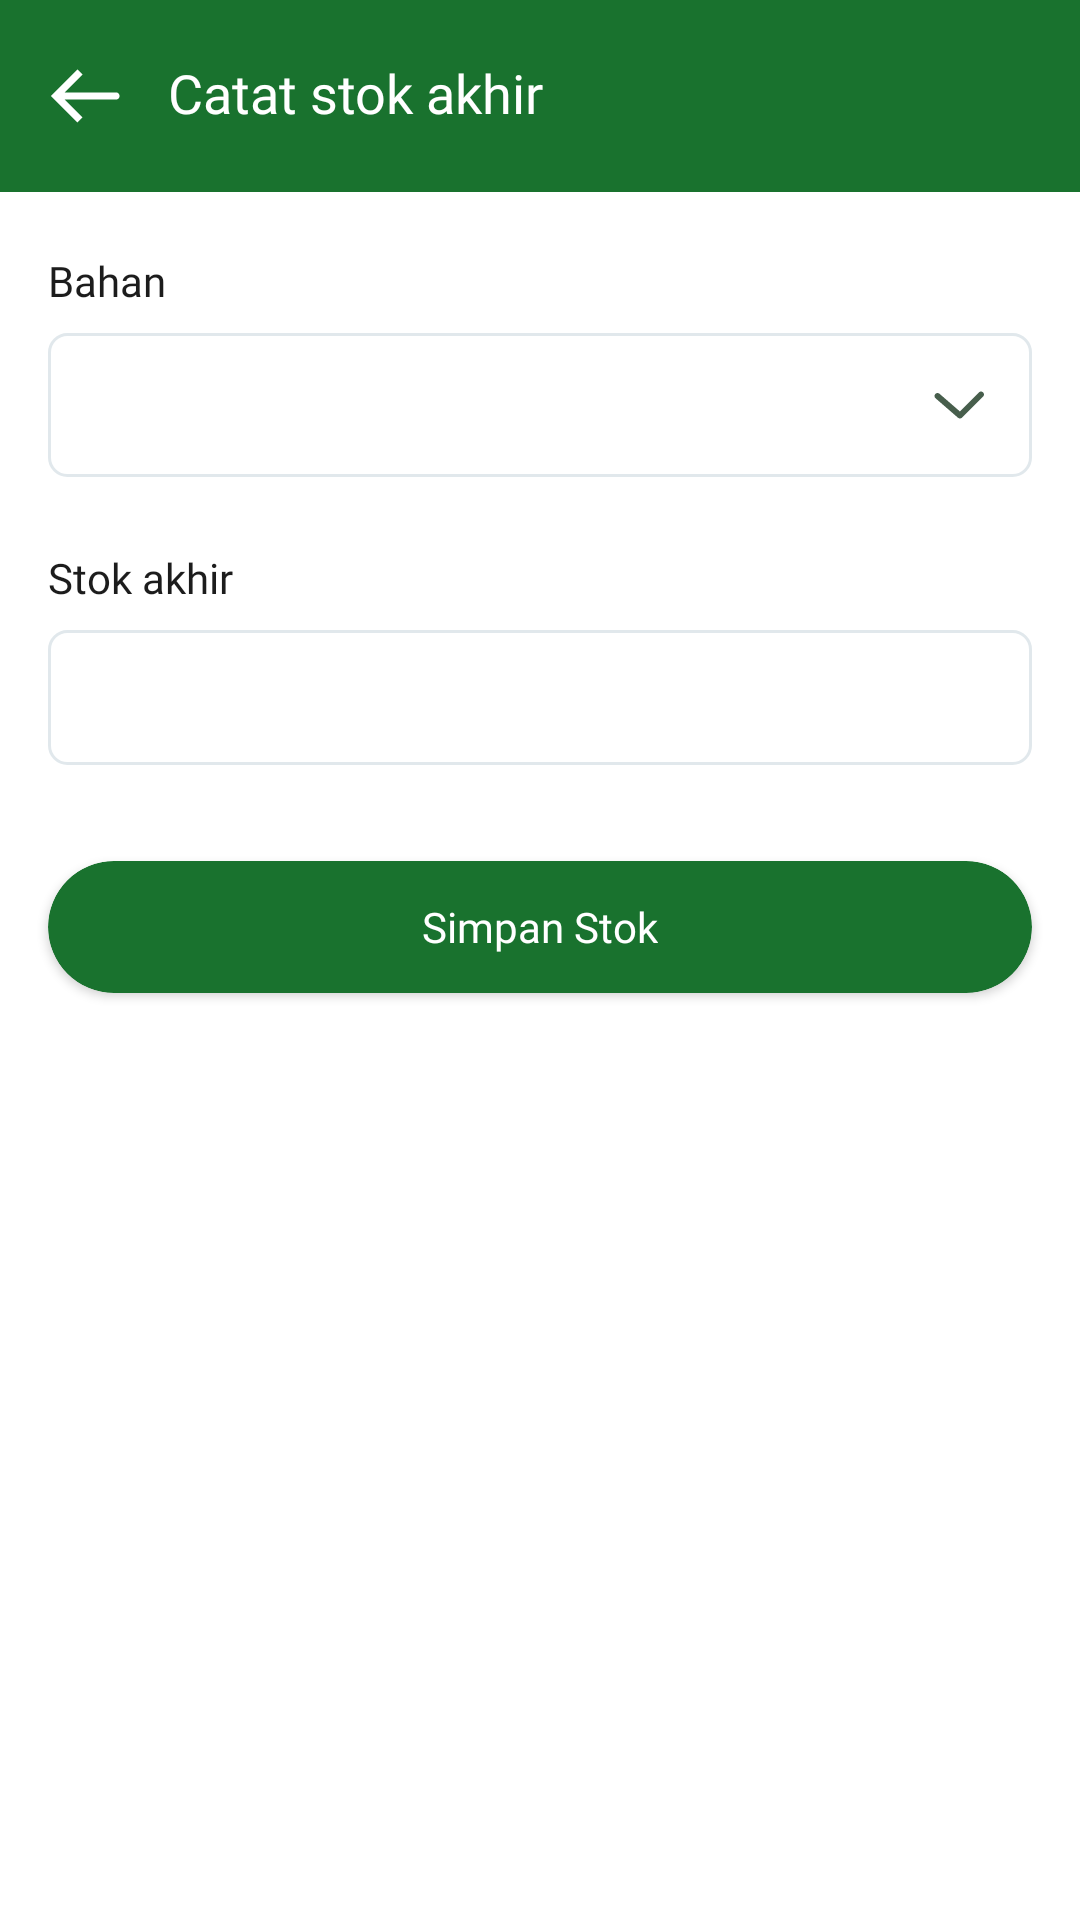

Icons on this 1080x1920 Android screen, each with the point to tap as point (x, y):
arrow down: point (959, 405)
arrow left: point (85, 96)
